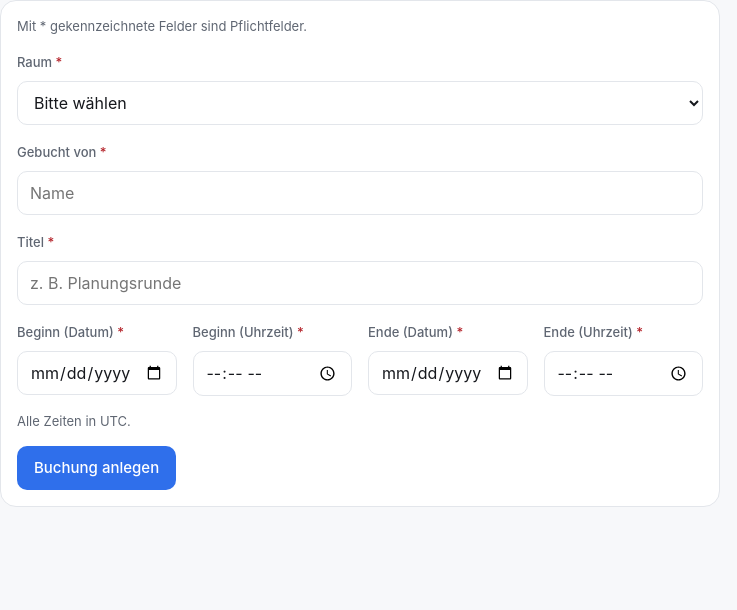
Test case: BookingForm › shows a confirmation and posts the booking on success
Select "Alpha · 4 Plätze" in the dropdown labelled "Raum *" at (360,103), box 17,81 -> 703,125
Type "Anna" into the field labelled "Gebucht von *".
click(360, 193); type("Anna")  # box 17,171 -> 703,215
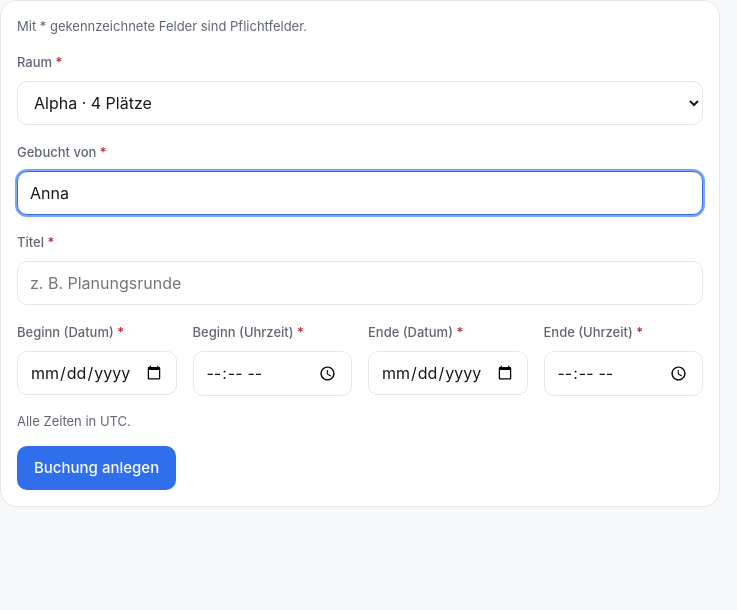
Type "Planung" into the field labelled "Titel *".
click(360, 283); type("Planung")  # box 17,261 -> 703,305
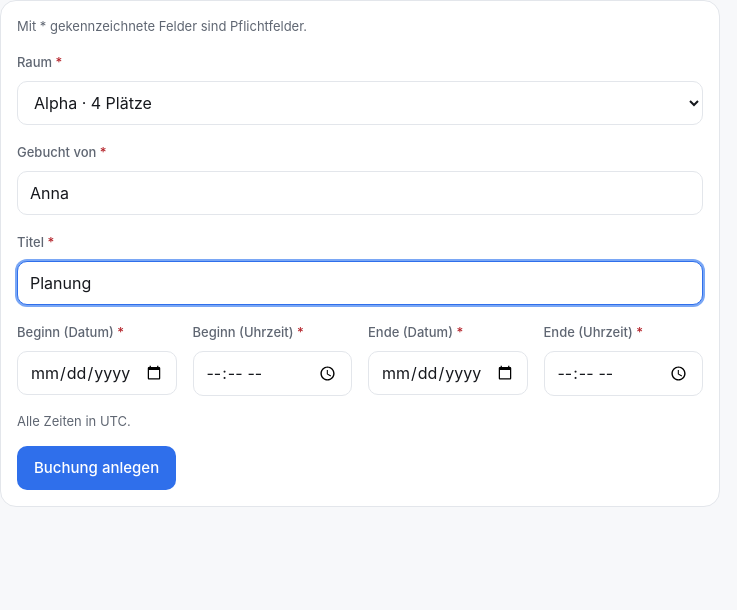
Type "2030-01-02" into the date field labelled "Beginn (Datum) *".
click(97, 373); type("2030-01-02")  # box 17,351 -> 176,395
Type "09:00" into the time field labelled "Beginn (Uhrzeit) *".
click(272, 373); type("09:00")  # box 192,351 -> 352,396
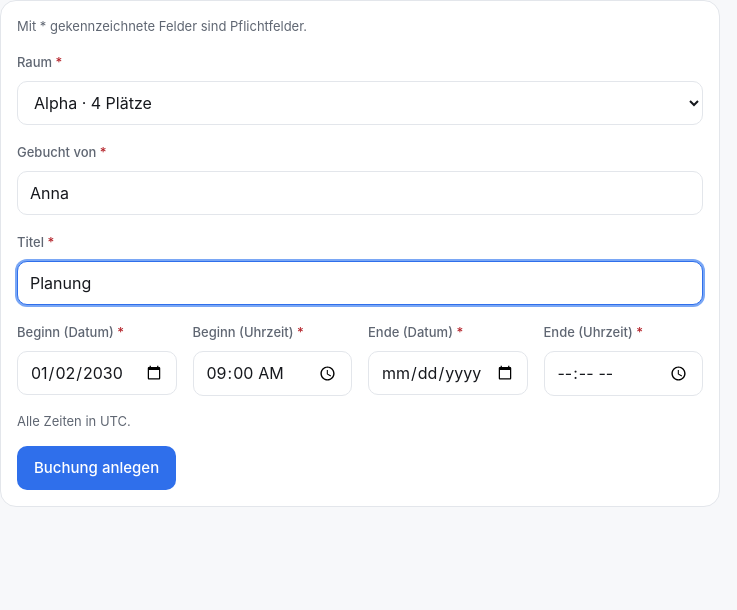
Type "2030-01-02" into the date field labelled "Ende (Datum) *".
click(448, 373); type("2030-01-02")  # box 368,351 -> 528,395
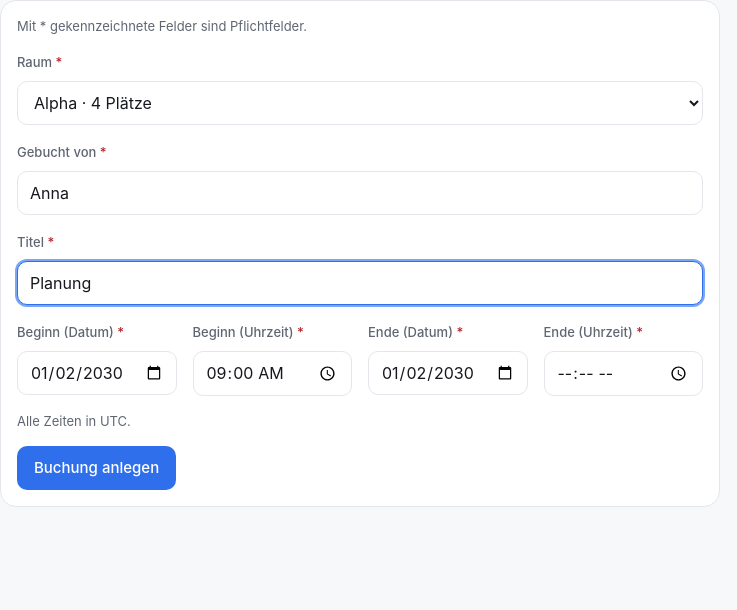
Type "10:00" into the time field labelled "Ende (Uhrzeit) *".
click(623, 373); type("10:00")  # box 544,351 -> 703,396
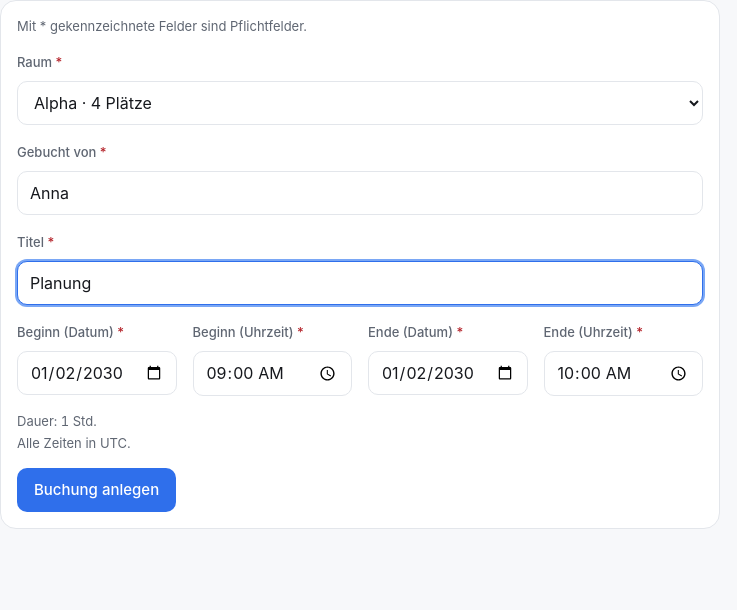
Click the button "Buchung anlegen".
click(97, 490)  # box 17,468 -> 176,512
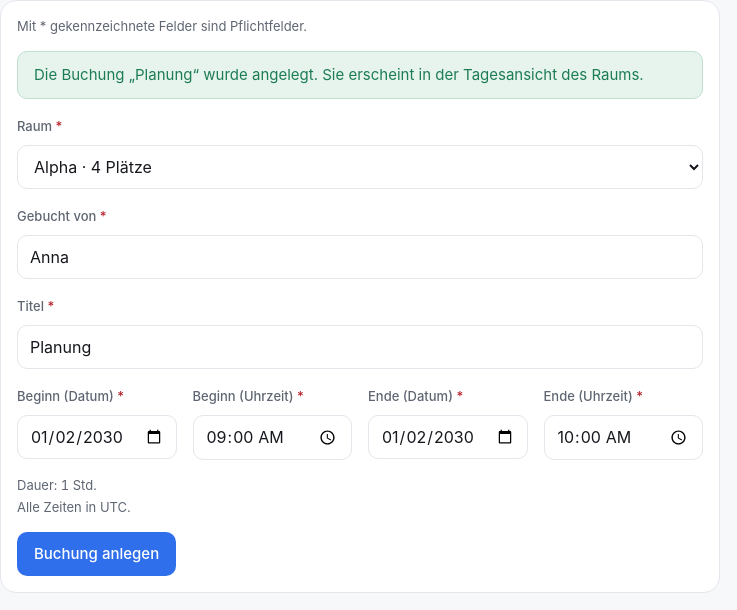
Result: the message shows "angelegt" at 34,65 -> 644,84
